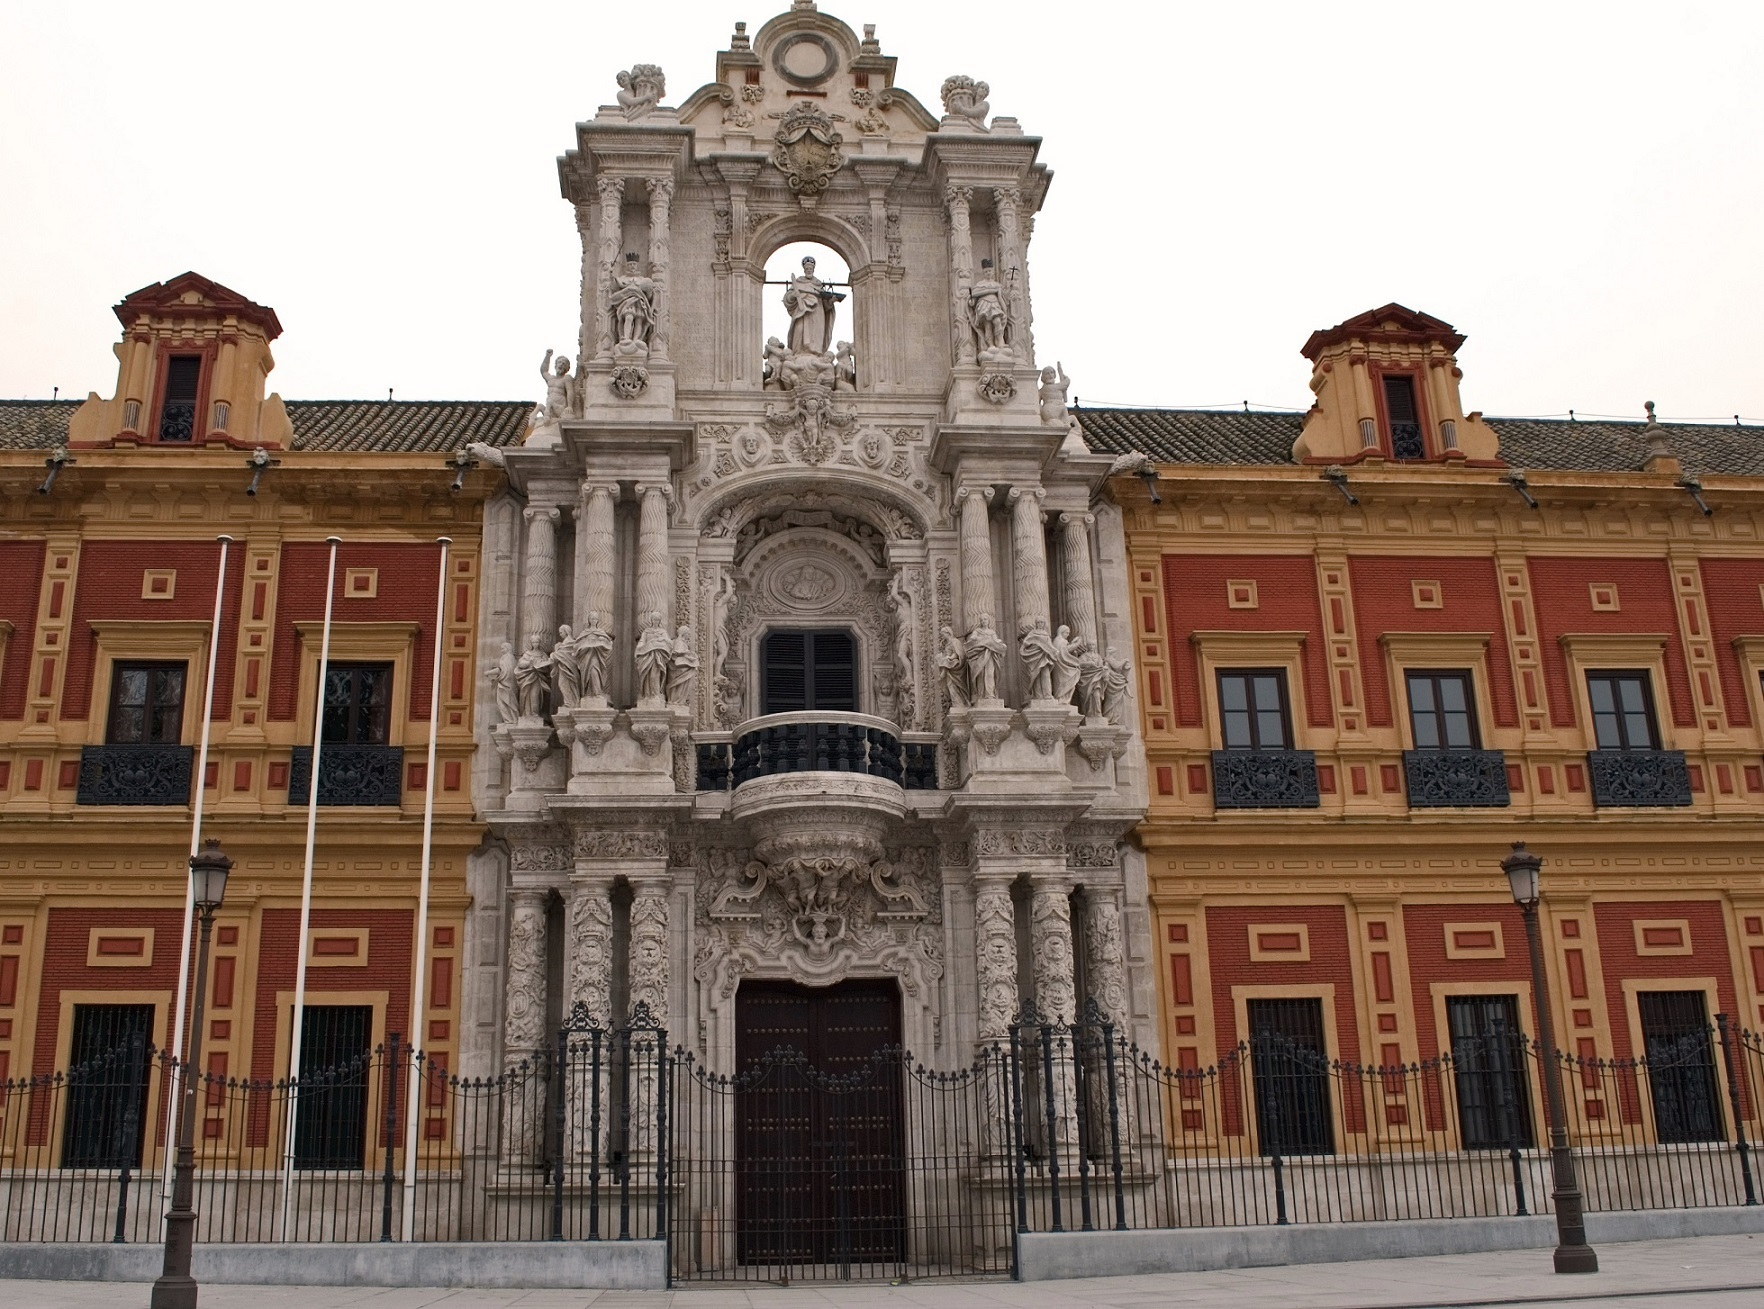arco-medio-punto: (747, 206, 870, 282)
fronton-partido: (122, 265, 257, 316), (1341, 298, 1457, 340)
vano-adintelado: (67, 617, 219, 817), (280, 616, 426, 821), (32, 986, 181, 1178), (1184, 624, 1330, 818), (1372, 626, 1517, 815), (1554, 628, 1697, 819), (264, 980, 397, 1180), (1424, 965, 1559, 1154), (1226, 975, 1357, 1162), (1620, 969, 1741, 1147)
